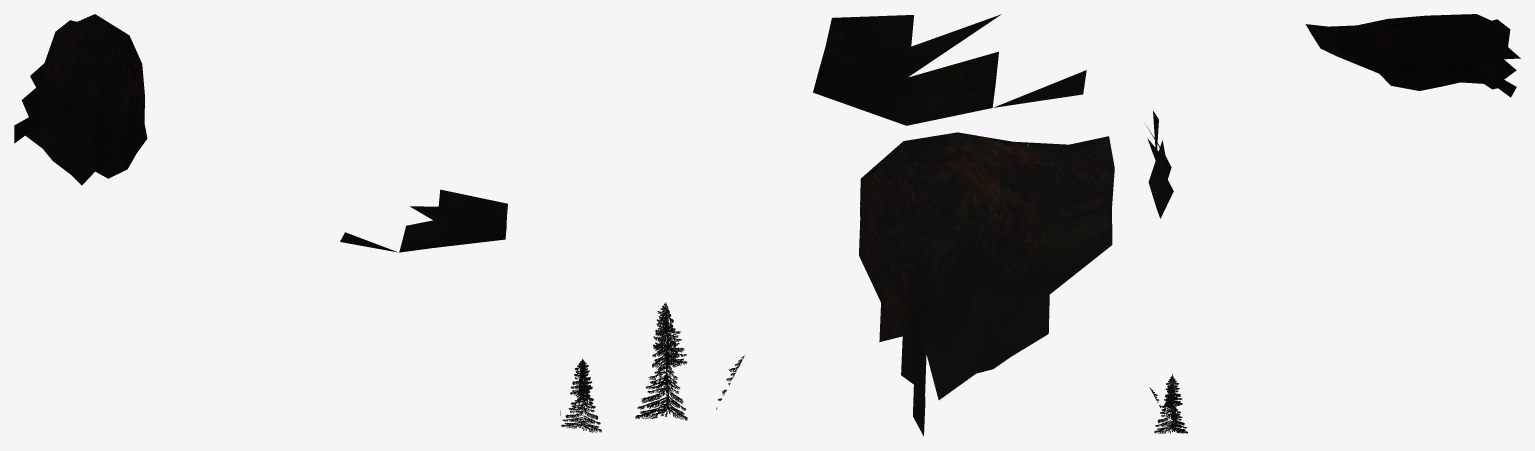
Rendered from cell_12_-15.gltf.
The picture shows the model from 3 angles, left to right: view 1: azimuth 30°, elevation 25°; view 2: azimuth 150°, elevation 25°; view 3: azimuth 270°, elevation 25°; orthographic projection. The views are drawn at different scales.
Parts seen in each view (by area): view 1: cell_12_-15; view 2: cell_12_-15; view 3: cell_12_-15.
Part boxes in pixels (left/top/right/bottom): cell_12_-15: left=14, top=14, right=601, bottom=432; cell_12_-15: left=635, top=14, right=1114, bottom=436; cell_12_-15: left=1146, top=14, right=1520, bottom=433.
Size of the model in its own units: 265 by 235 by 272.
3 materials, 3 textured.
